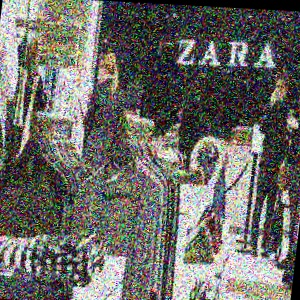zara: (146, 17, 300, 55)
